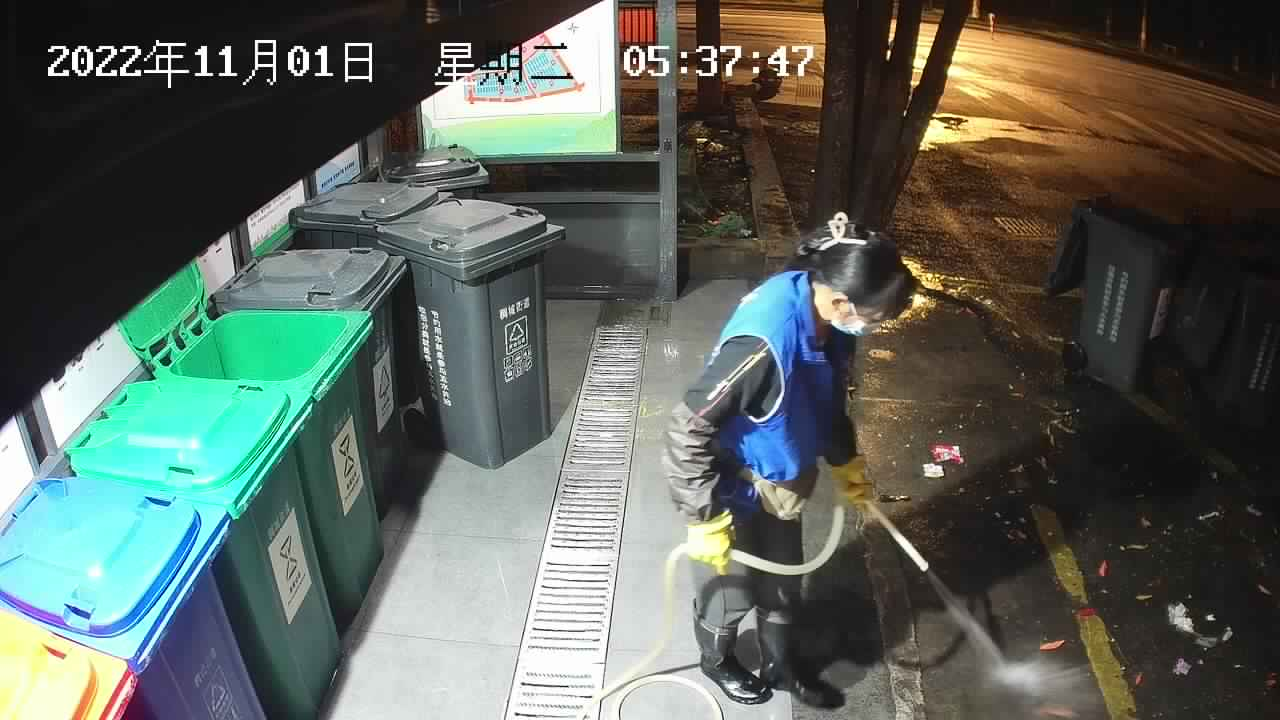suliaozhipin: (927, 438, 964, 465)
worker: (659, 211, 917, 711)
zhizhipin: (922, 462, 946, 480)
